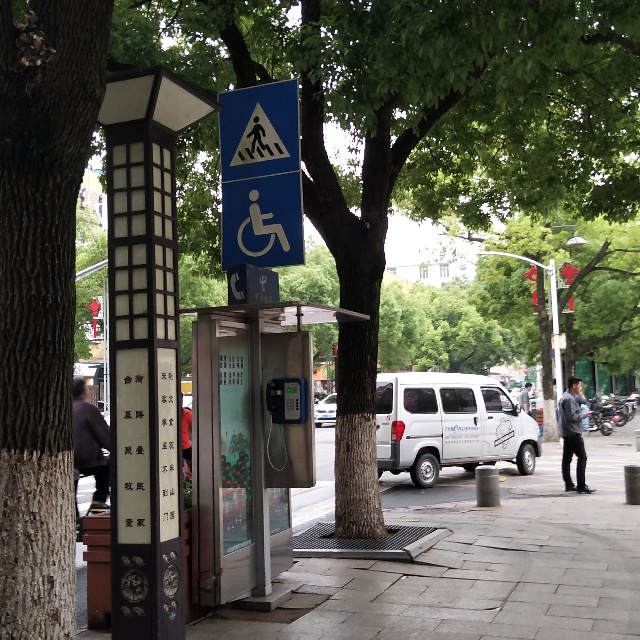crosswalk: (219, 93, 294, 170)
